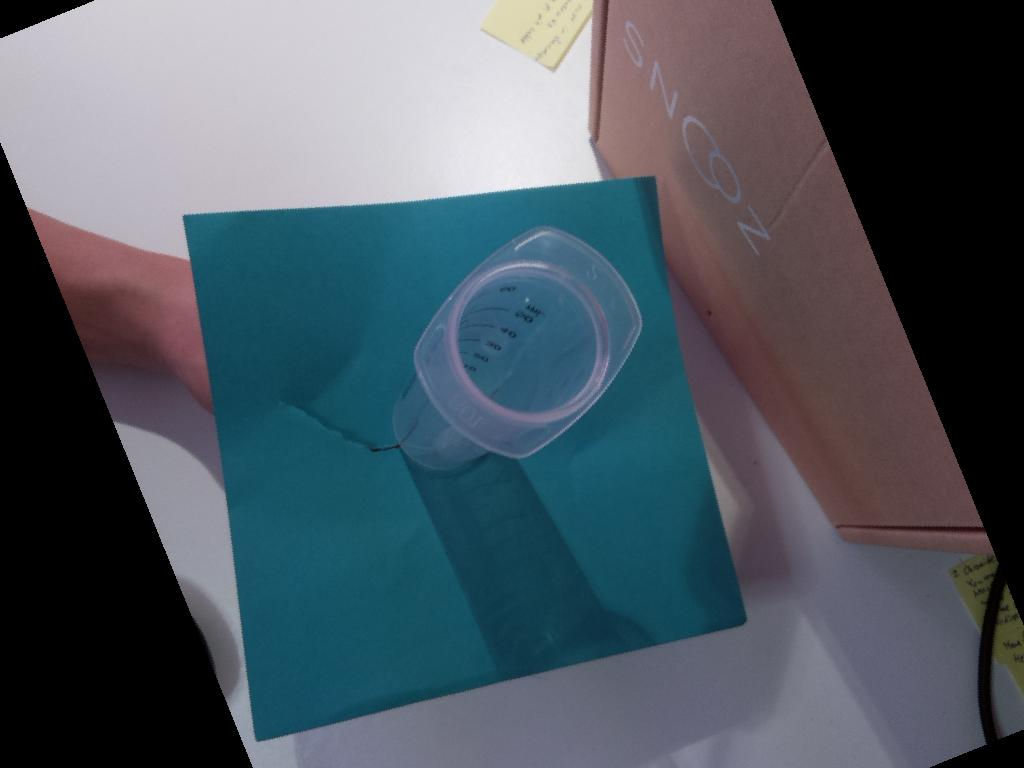clean: (412, 225, 646, 460)
